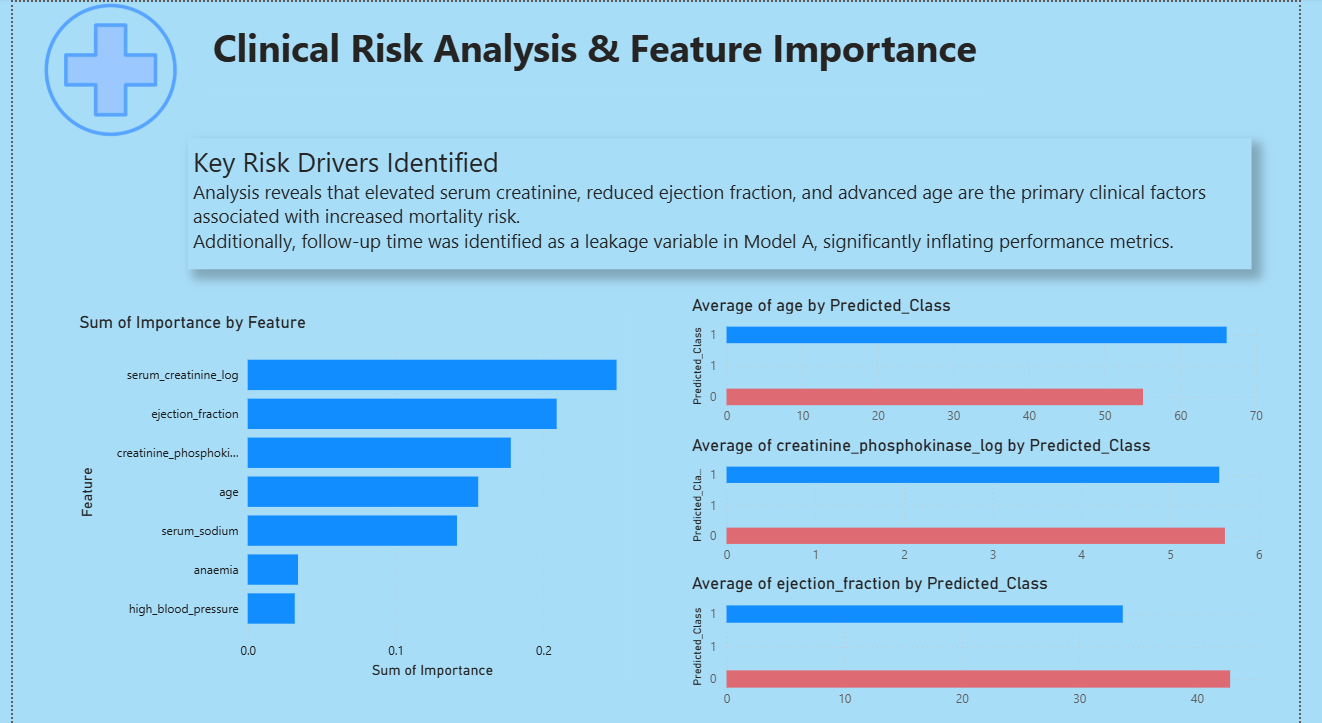

The dashboard page shown, as its layout file describes it:
{"tool":"powerbi","page":{"name":"CLINICAL RISK ANALYSIS","canvas":[1280,720],"ordinal":2},"visuals":[{"type":"image","box":[0,0,194.1,135.6],"z":0},{"type":"textbox","box":[194.1,14.9,775,78.4],"z":1000},{"type":"textbox","box":[174.2,135.6,1058.6,130.6],"z":2000},{"type":"clusteredBarChart","fields":{"Category":["feature_importance_modelB.Feature"],"Y":["Sum(feature_importance_modelB.Importance)"]},"box":[61,308.5,553.6,369.5],"z":3000},{"type":"clusteredBarChart","fields":{"Category":["modelB_predictions.Predicted_Class"],"Y":["Avg(modelB_predictions.age)"]},"box":[670.5,291.1,578.4,139.3],"z":4000},{"type":"clusteredBarChart","fields":{"Category":["modelB_predictions.Predicted_Class"],"Y":["Avg(modelB_predictions.creatinine_phosphokinase_log)"]},"box":[670.5,430.4,578.4,138.1],"z":5000},{"type":"clusteredBarChart","fields":{"Category":["modelB_predictions.Predicted_Class"],"Y":["Avg(modelB_predictions.ejection_fraction)"]},"box":[670.5,568.5,578.4,143.1],"z":6000}]}

Visuals, with their boxes in screenshot pixels (x1, y1, x2, y2), scaled from the page's 1280x720 canvas onto the 1322x723 screenshot:
image: 0,0,200,136
textbox: 200,15,1001,94
textbox: 180,136,1273,267
clusteredBarChart - feature_importance_modelB.Feature x Sum(feature_importance_modelB.Importance): 63,310,635,681
clusteredBarChart - modelB_predictions.Predicted_Class x Avg(modelB_predictions.age): 693,292,1290,432
clusteredBarChart - modelB_predictions.Predicted_Class x Avg(modelB_predictions.creatinine_phosphokinase_log): 693,432,1290,571
clusteredBarChart - modelB_predictions.Predicted_Class x Avg(modelB_predictions.ejection_fraction): 693,571,1290,715
